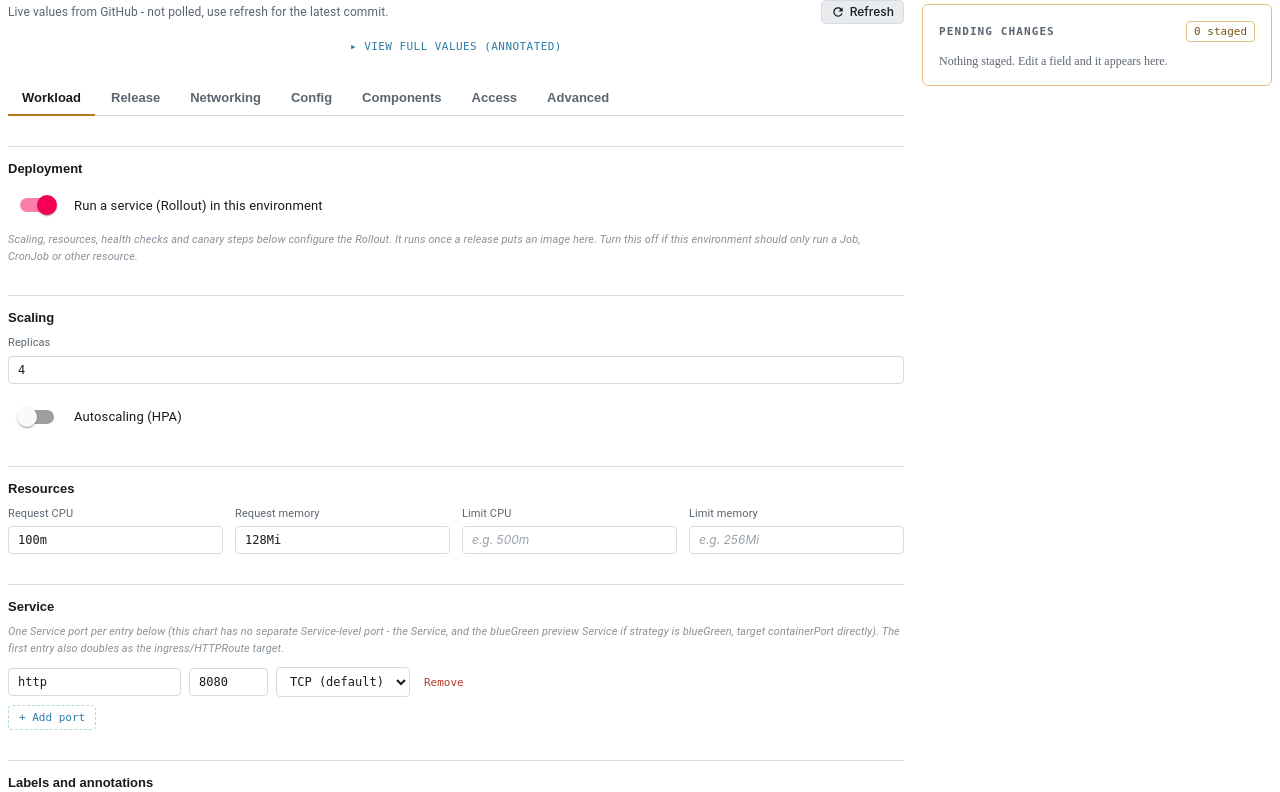
Scenario: values form: components › keeps the raw YAML editor on the same tab, so a shape the form cannot draw is still editable
Click the tab "Components": (402, 99) x1=348 y1=81 x2=456 y2=116
(page scrolled)
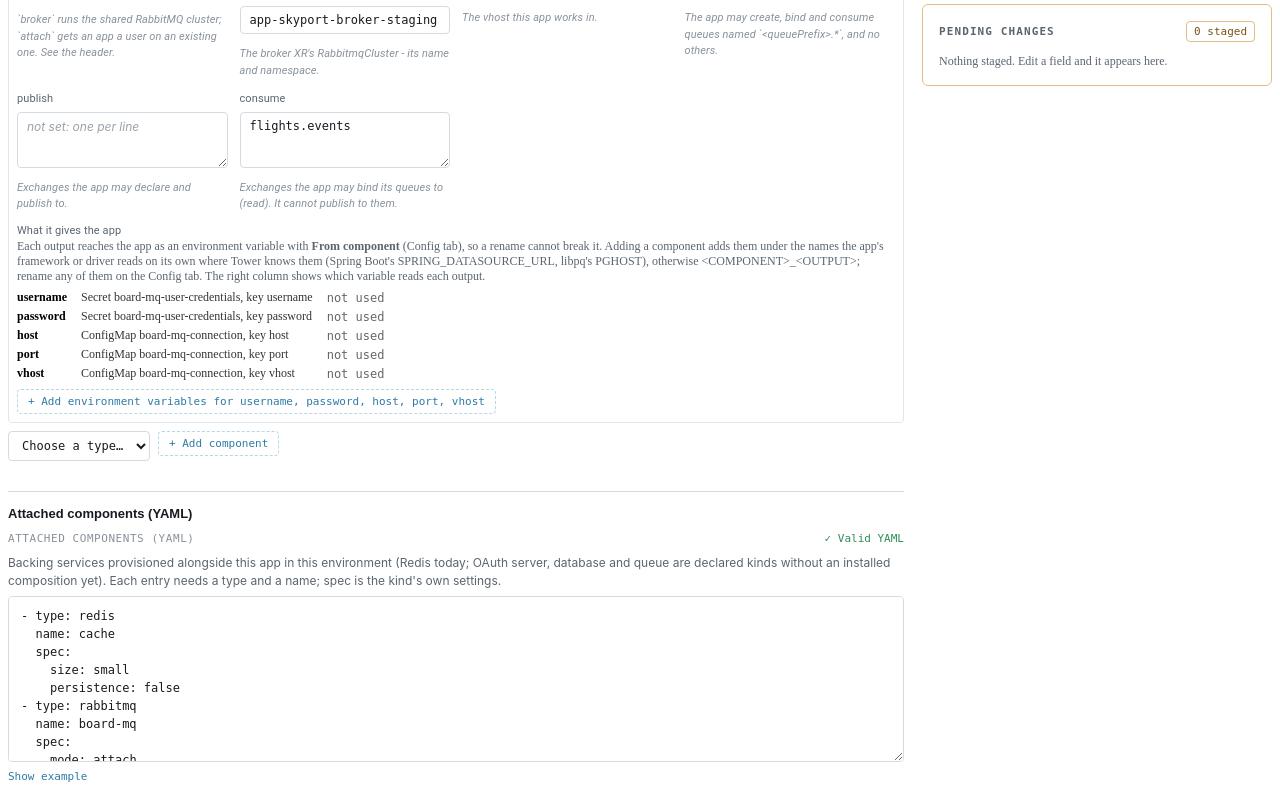
Expected: the heading "Attached components (YAML)" is shown, x1=8 y1=506 x2=192 y2=521
